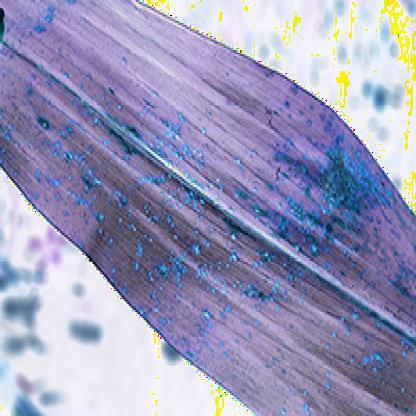Corn rust leaf: (1, 2, 414, 414)
